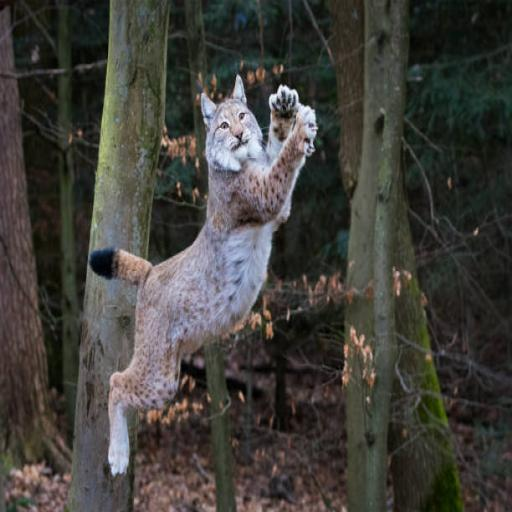lynx: (90, 75, 317, 474)
